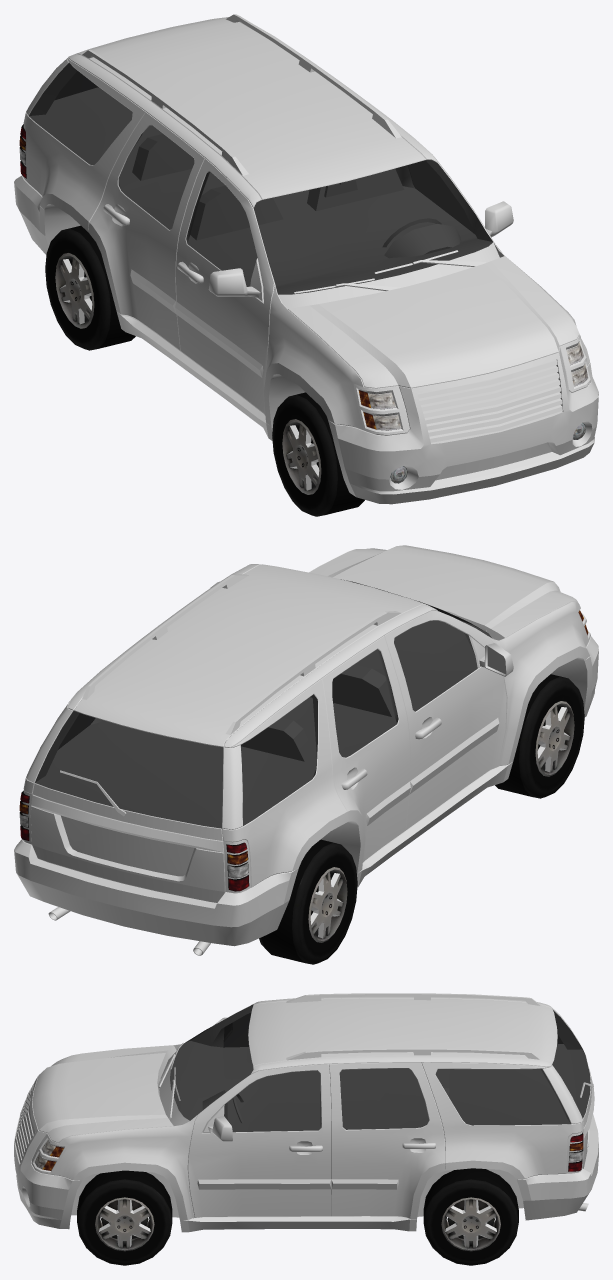
Rendered from car_suv.glb.
The picture shows the model from 3 angles, top to bottom: view 1: azimuth 30°, elevation 25°; view 2: azimuth 150°, elevation 25°; view 3: azimuth 270°, elevation 25°; orthographic projection. The views are drawn at different scales.
Visible parts, largest first — view 1: SUV Body_Body_0, SUV Body_Glass_0, Wheel_E003_Wheel_0.001, Wheel_E002_Wheel_0.001, SUV Body_Optics_0; view 2: SUV Body_Body_0, SUV Body_Glass_0, Wheel_E003_Wheel_0.001, Wheel_E002_Wheel_0.001, SUV Body_Optics_0; view 3: SUV Body_Body_0, SUV Body_Glass_0, Wheel_E001_Wheel_0.001, Wheel_E_Wheel_0.001, SUV Body_Optics_0.
Part boxes in pixels (x1,y1,x2,y2): SUV Body_Body_0: [14, 14, 598, 504]; SUV Body_Glass_0: [29, 63, 492, 294]; Wheel_E003_Wheel_0.001: [45, 225, 135, 350]; Wheel_E002_Wheel_0.001: [272, 392, 364, 516]; SUV Body_Optics_0: [19, 124, 588, 483]; SUV Body_Body_0: [14, 545, 598, 955]; SUV Body_Glass_0: [35, 579, 492, 828]; Wheel_E003_Wheel_0.001: [259, 839, 357, 964]; Wheel_E002_Wheel_0.001: [495, 674, 584, 798]; SUV Body_Optics_0: [19, 610, 588, 891]; SUV Body_Body_0: [14, 993, 598, 1232]; SUV Body_Glass_0: [170, 1005, 590, 1132]; Wheel_E001_Wheel_0.001: [423, 1168, 518, 1265]; Wheel_E_Wheel_0.001: [77, 1170, 172, 1265]; SUV Body_Optics_0: [34, 1132, 583, 1171].
Size of the model in its own units: 2.11 by 1.77 by 4.7.
4 materials, 2 textured.
